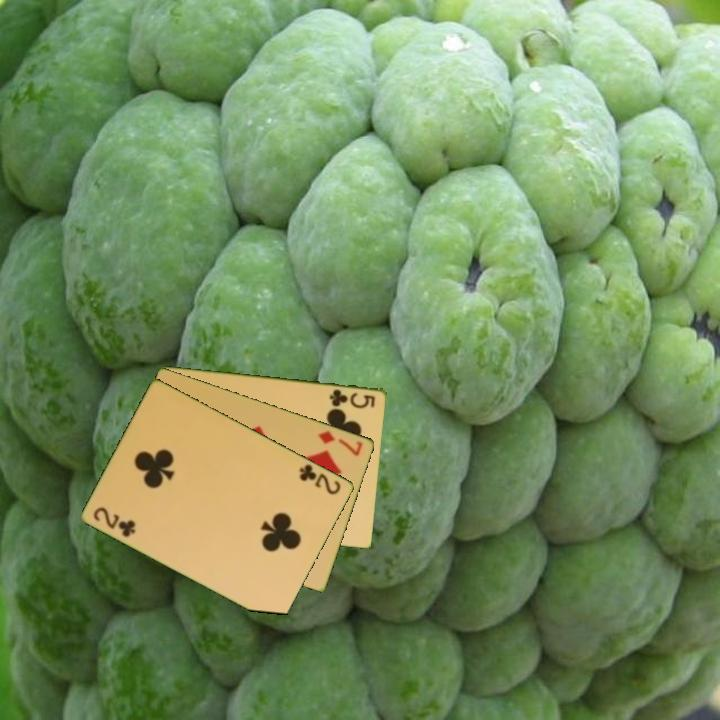2c: (296, 460, 344, 498), (90, 503, 139, 540)
5c: (326, 385, 378, 411)
7d: (315, 427, 366, 459)
